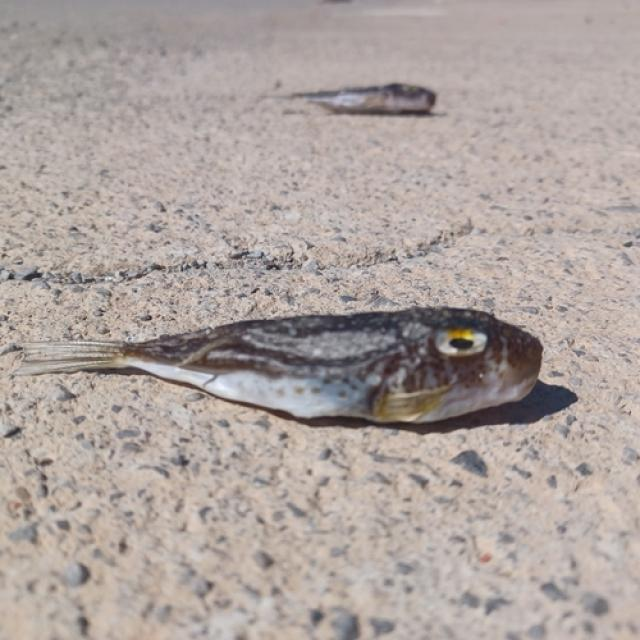Balik: (18, 309, 542, 422), (291, 84, 436, 115)
